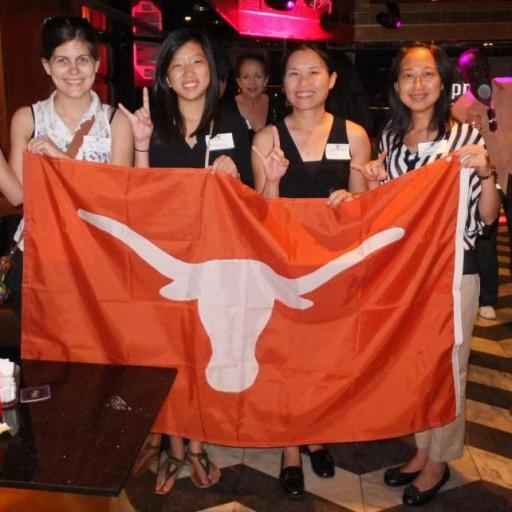person: (353, 43, 499, 505), (10, 17, 133, 184), (120, 29, 252, 184), (253, 43, 370, 206), (452, 49, 511, 225), (225, 53, 283, 140)
